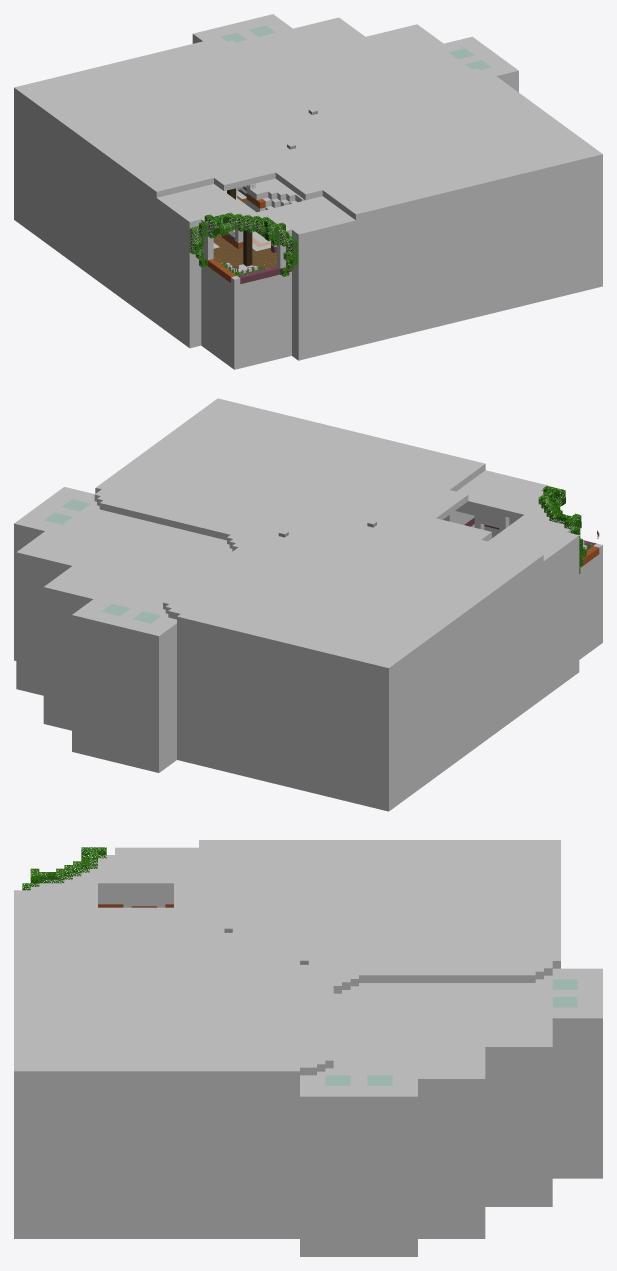
The model's file is minecraft.obj.
The picture shows the model from 3 angles, top to bottom: view 1: azimuth 30°, elevation 25°; view 2: azimuth 150°, elevation 25°; view 3: azimuth 270°, elevation 25°; orthographic projection. The views are drawn at different scales.
Bounding box in the file's own units: 70 × 22.5 × 70.
